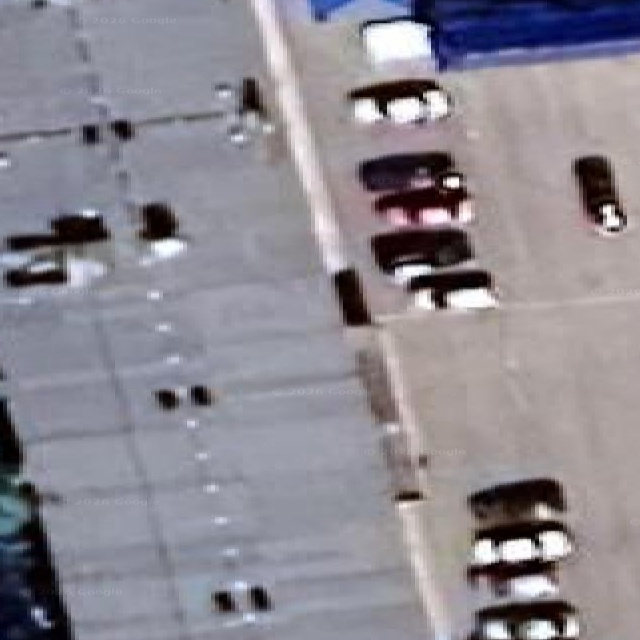car: (467, 520, 573, 585), (371, 228, 473, 285), (348, 79, 452, 124), (467, 478, 565, 525), (5, 209, 109, 251), (373, 183, 473, 226), (358, 151, 463, 191), (573, 156, 626, 234), (473, 600, 579, 639), (5, 249, 106, 288), (407, 269, 497, 310), (360, 17, 431, 65), (138, 202, 186, 263), (485, 561, 559, 599), (5, 251, 67, 287), (50, 209, 109, 244)
